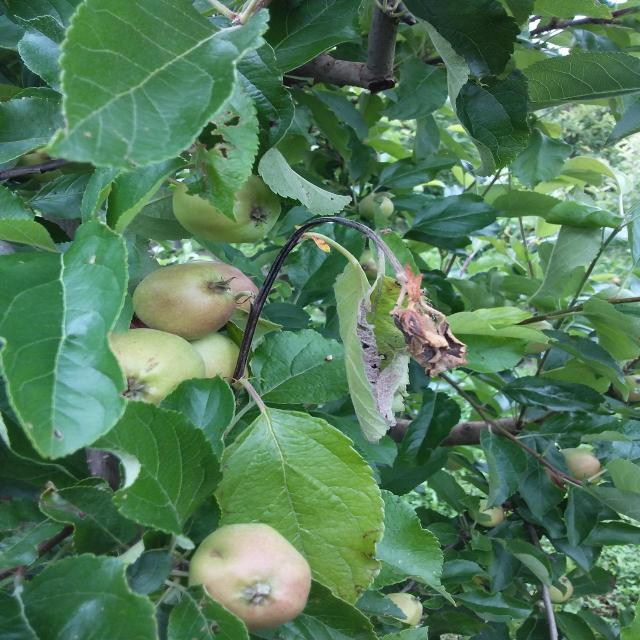-FireBlight-: (342, 263, 467, 424)
